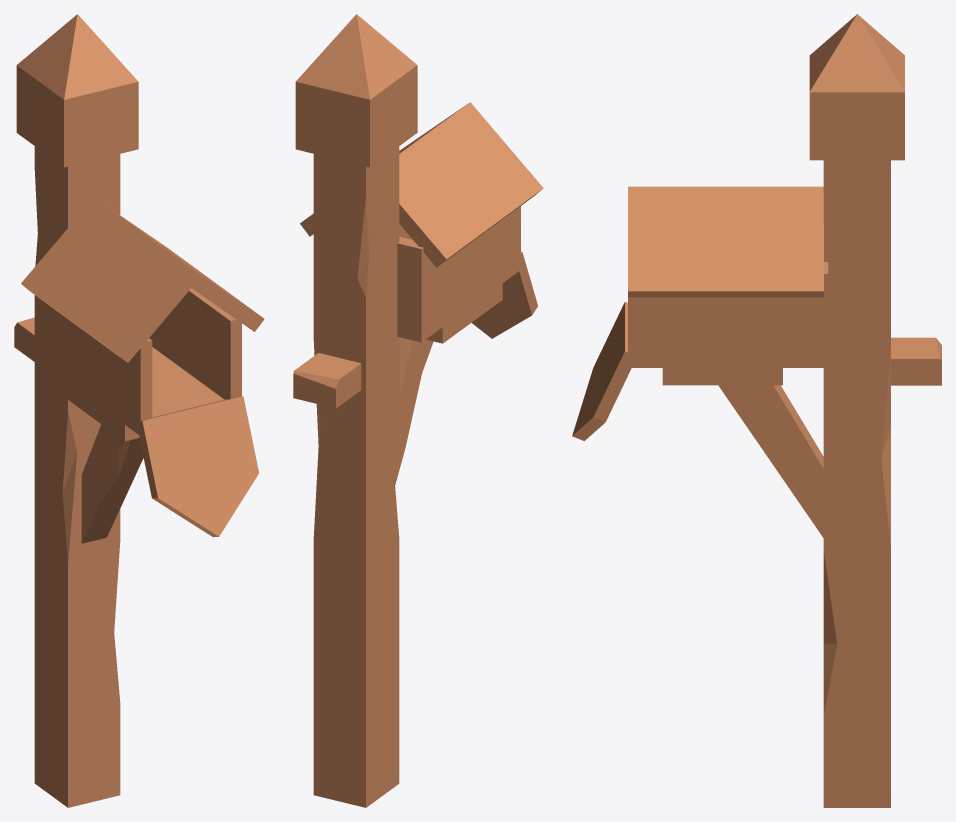
Rendered from Mailbox_UV.fbx.
3 renders of one model, left to right at view 1: azimuth 30°, elevation 25°; view 2: azimuth 150°, elevation 25°; view 3: azimuth 270°, elevation 25°, orthographic.
Visible parts, largest first — view 1: Mailbox; view 2: Mailbox; view 3: Mailbox.
Part boxes in pixels (left/top/right/bottom): Mailbox: left=14, top=14, right=264, bottom=807; Mailbox: left=293, top=14, right=543, bottom=807; Mailbox: left=572, top=14, right=941, bottom=807.
Size of the model in its own units: 10.69 by 53.95 by 23.15.
